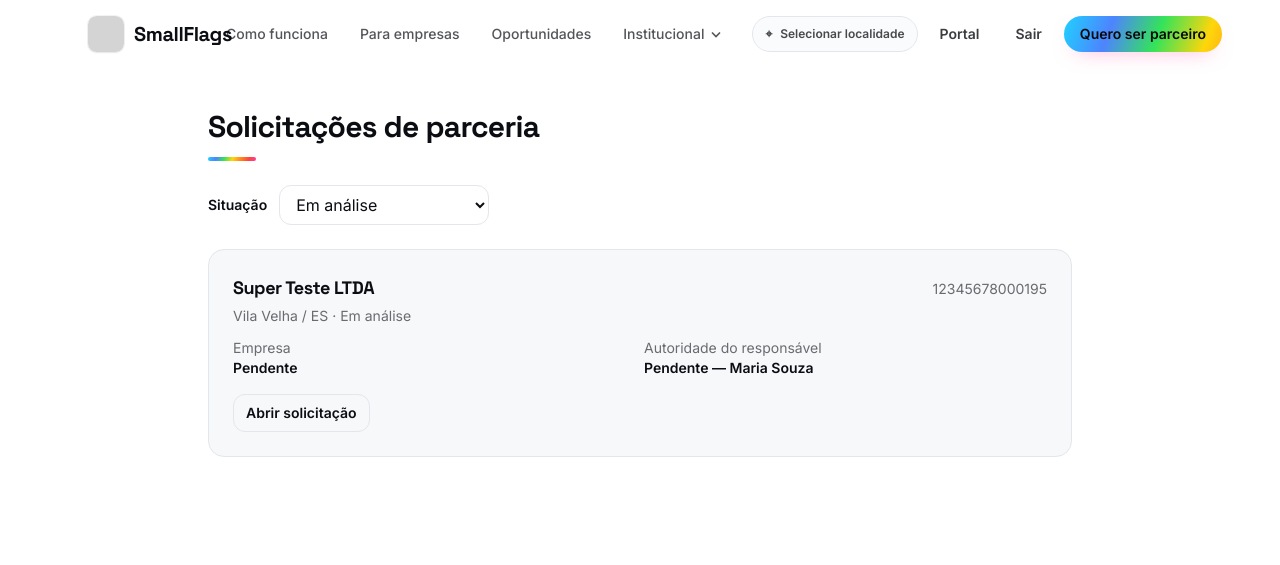
Scenario: B10 — formulario invalido nao chama a RPC › formulario vazio nao envia nada (o botao antigo enviava campos vazios)
Click the button "Abrir solicitação".
click(301, 413)  # box [233, 394, 370, 432]
(page scrolled)
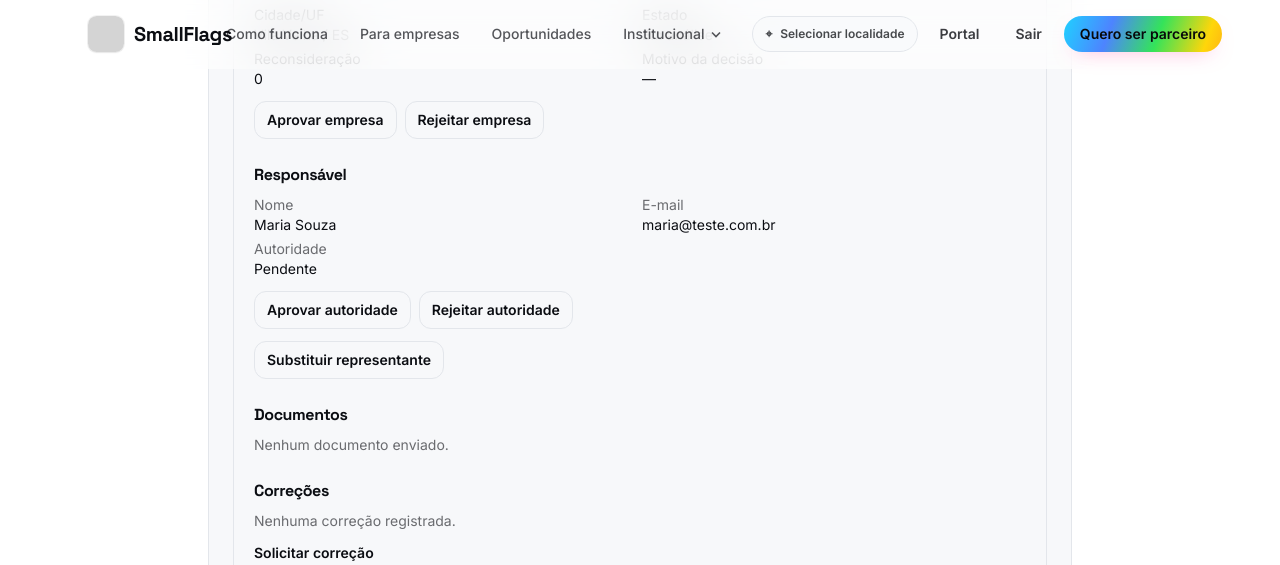
Expected: the button "Substituir representante" is shown
Click the button "Substituir representante".
click(349, 360)  # box [254, 341, 444, 379]
(page scrolled)
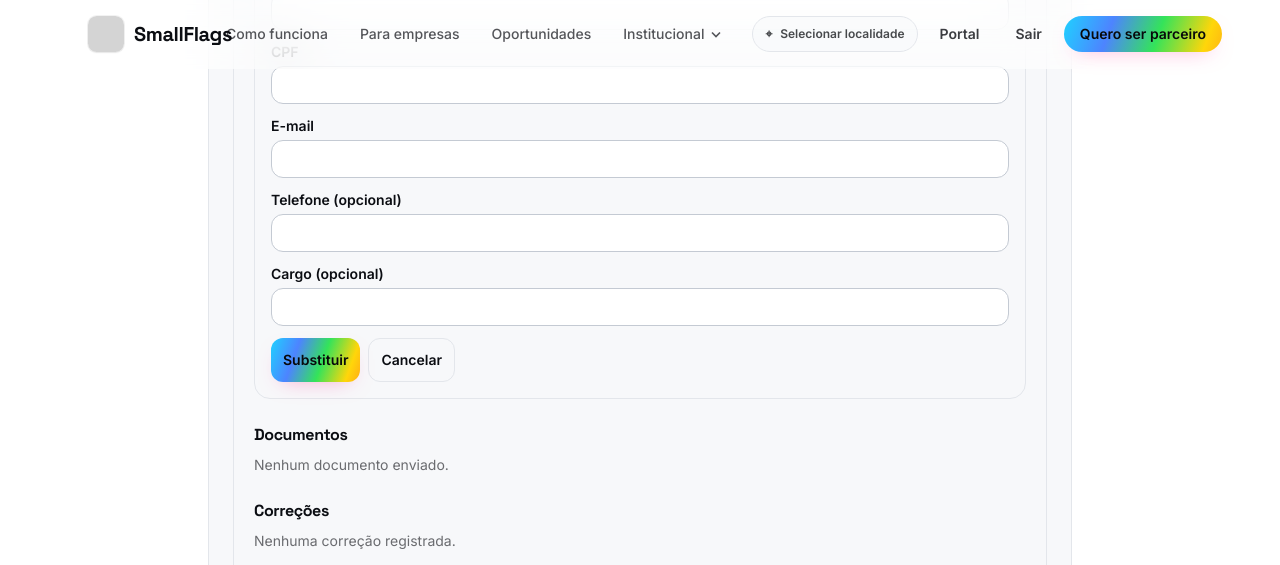
Click the button "Substituir".
click(316, 360)  # box [271, 338, 360, 382]
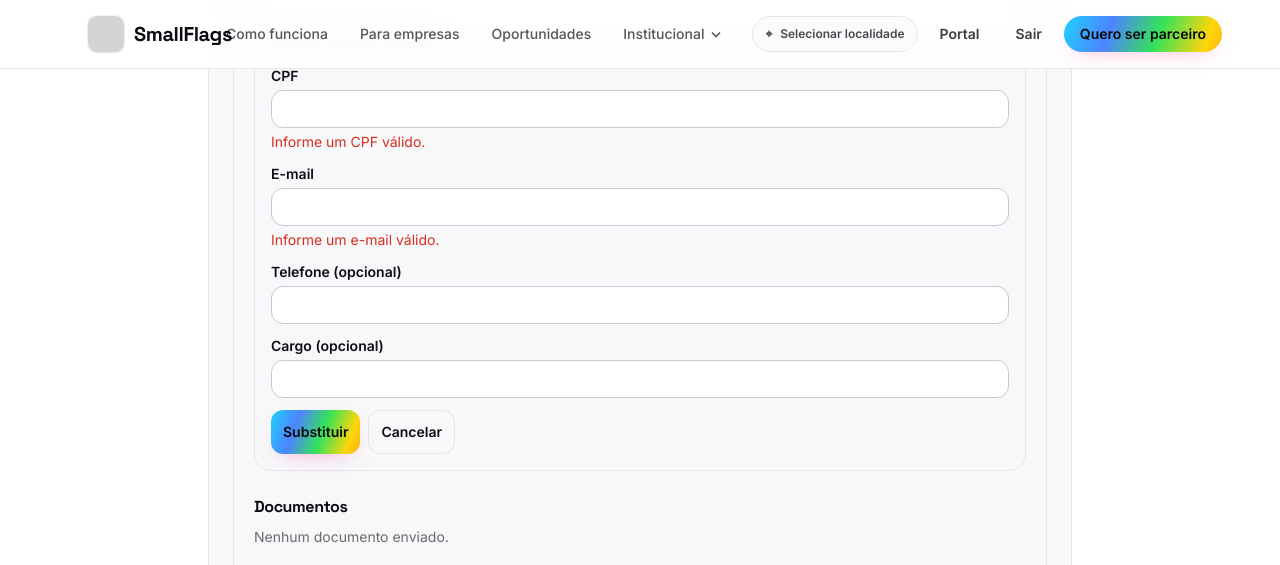
Expected: the text "Informe o nome completo." is shown, [271, 35, 445, 52]
